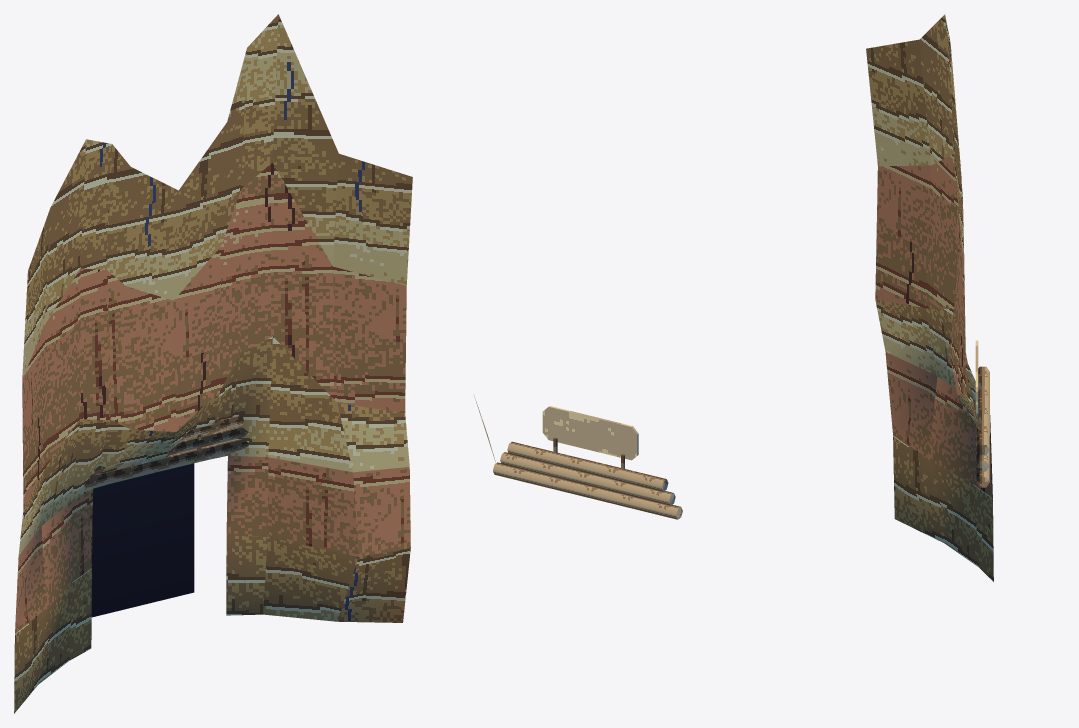
File: wmine.portal__canyon.glb
The picture shows the model from 3 angles, left to right: view 1: azimuth 30°, elevation 25°; view 2: azimuth 150°, elevation 25°; view 3: azimuth 270°, elevation 25°; orthographic projection. The views are drawn at different scales.
Parts seen in each view (by area): view 1: kit_shell_face, kit_card_depth, kit_lagging; view 2: kit_lagging, kit_trim; view 3: kit_shell_face, kit_lagging.
Part boxes in pixels (x1,y1,x2,y2): kit_shell_face: (14,14,412,713); kit_card_depth: (91,463,194,617); kit_lagging: (84,416,249,487); kit_lagging: (493,441,682,519); kit_trim: (542,406,638,460); kit_shell_face: (866,14,993,581); kit_lagging: (976,366,989,487).
Bounding box in the file's own units: 8 × 12.2 × 3.45.
7 materials, 7 textured.
